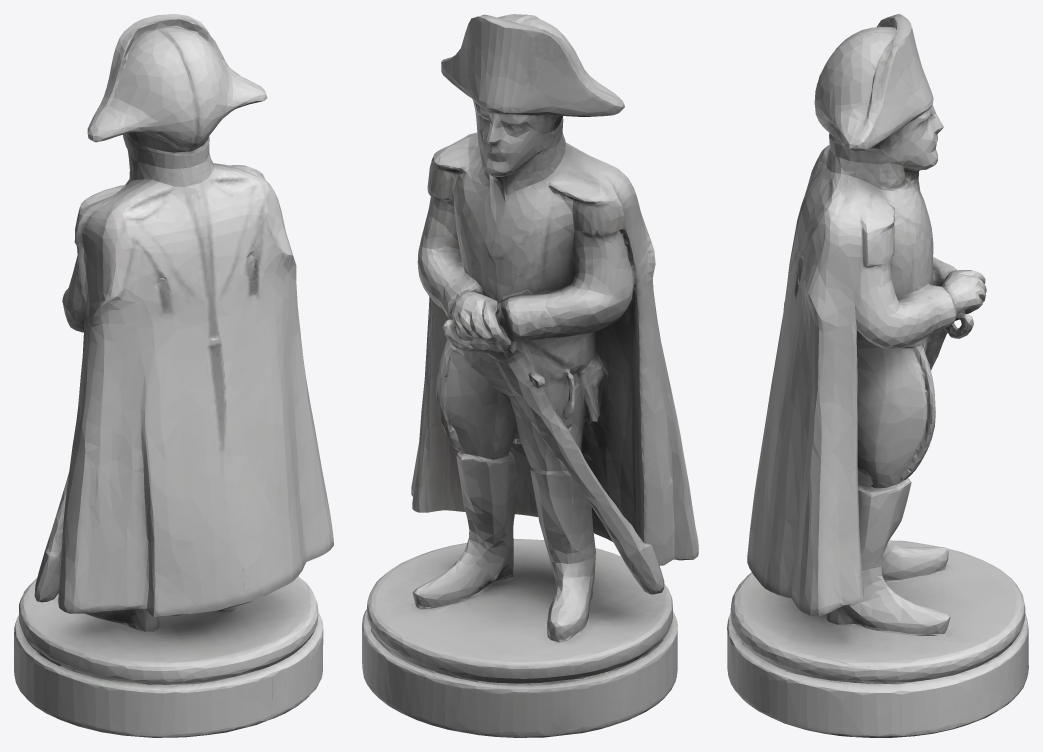
File: rey-patriota.glb
3 views of the same model, side by side, from view 1: azimuth 30°, elevation 25°; view 2: azimuth 150°, elevation 25°; view 3: azimuth 270°, elevation 25° (orthographic). The views are drawn at different scales.
Visible parts, largest first — view 1: geometry_0; view 2: geometry_0; view 3: geometry_0.
Part boxes in pixels (x1,y1,x2,y2): geometry_0: (14,14,333,737); geometry_0: (362,14,698,737); geometry_0: (727,14,1028,737).
Size of the model in its own units: 0.4465 by 1 by 0.4233.
1 material, 1 textured.
